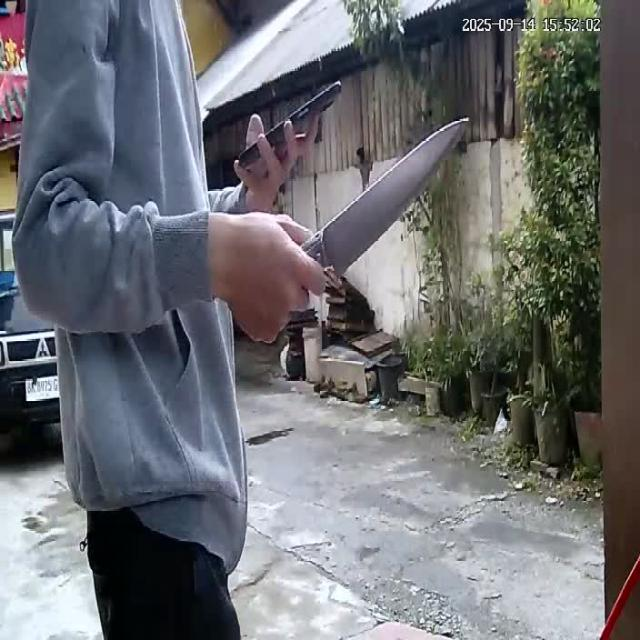senjata_tajam: (324, 112, 471, 282)
